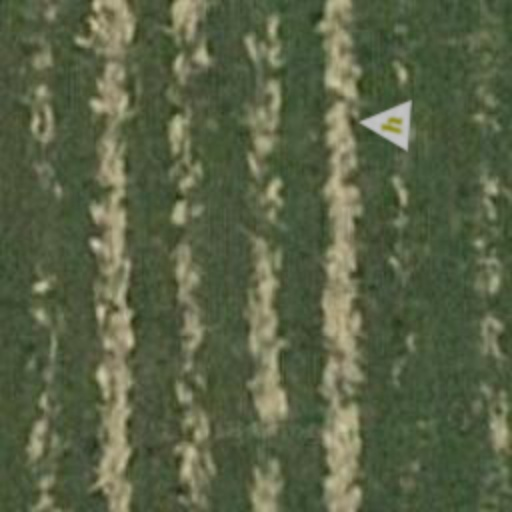triangle: (356, 96, 412, 152)
